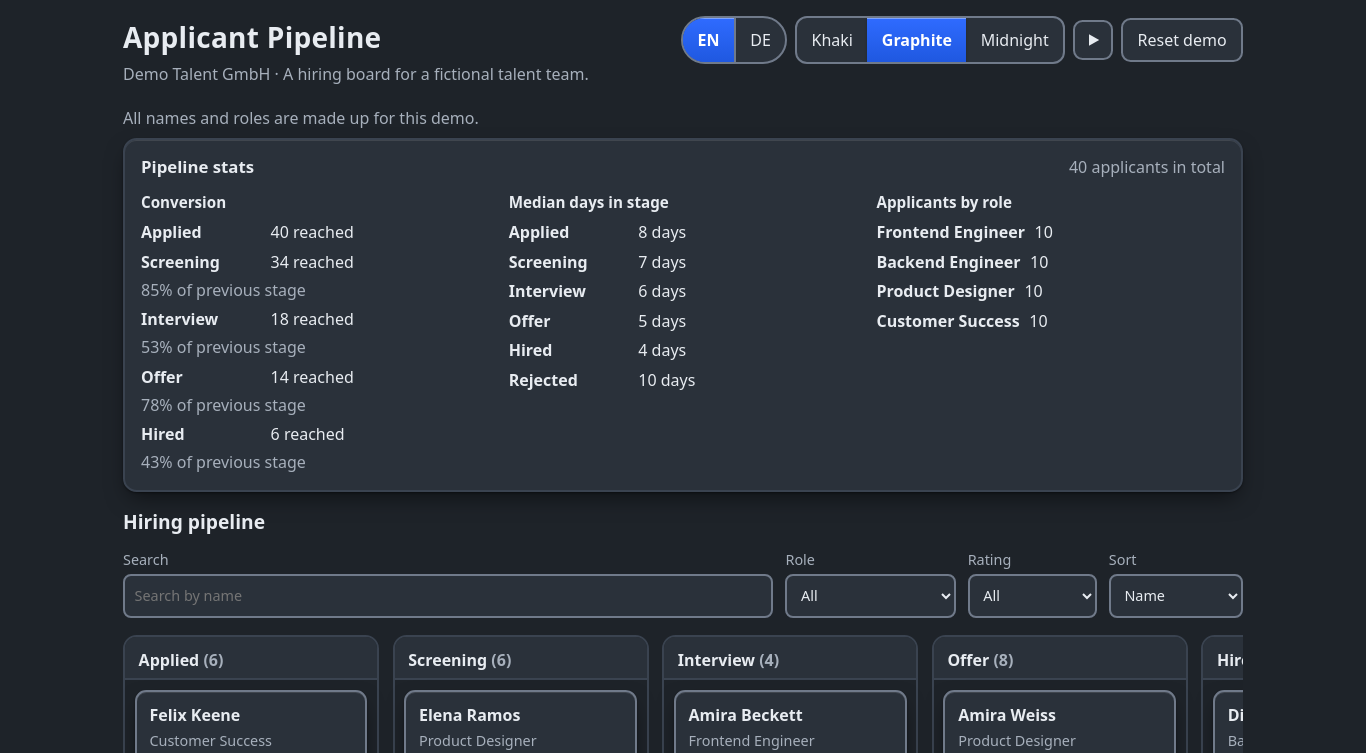
Test: App shell › toggles motion and persists it; stays static by default
Click the button named "Animated background": (1093, 40) [1073,20,1113,60]
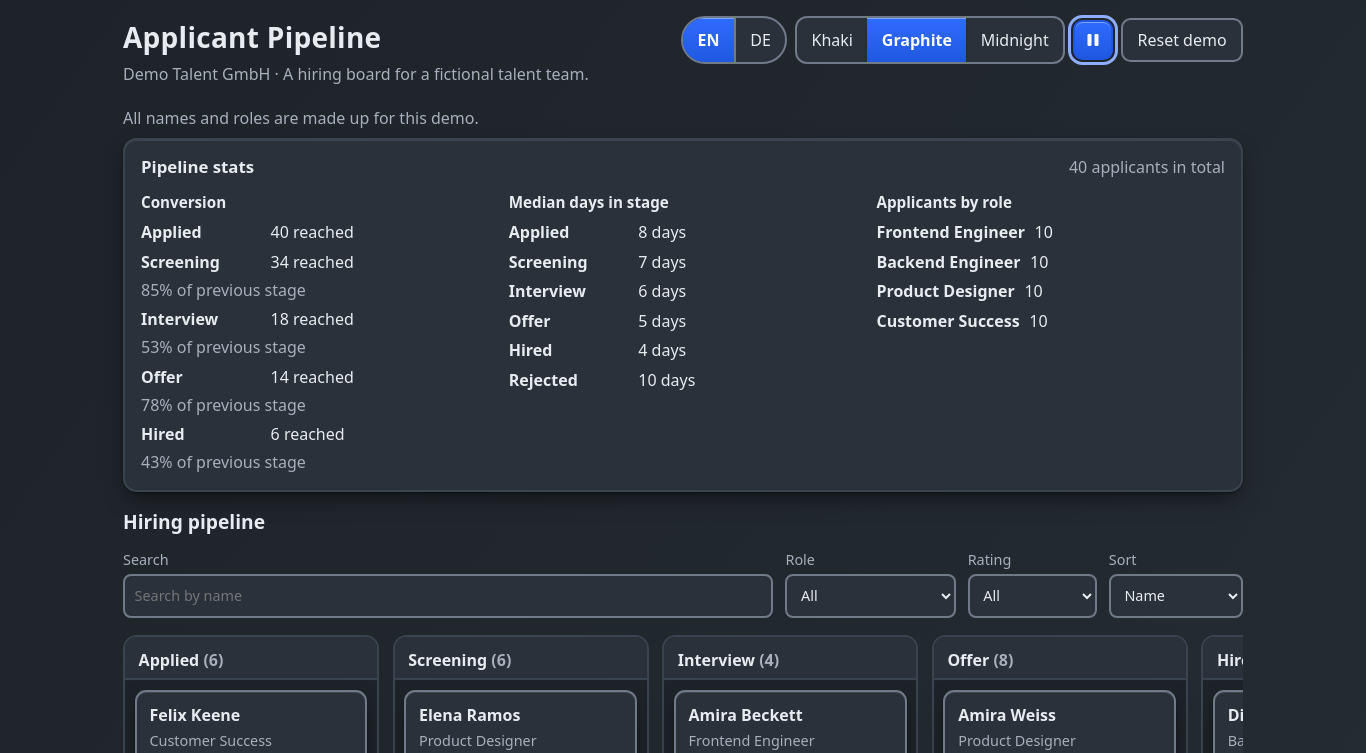
Now the button named "Animated background" is pressed, box [1073,20,1113,60]
